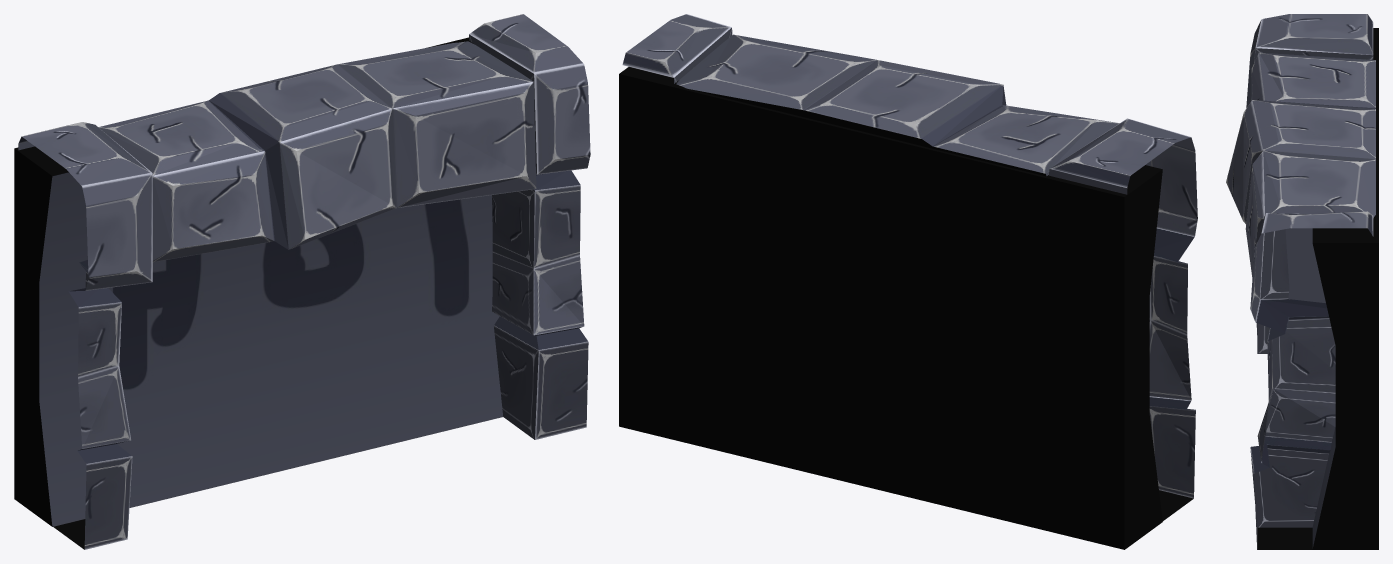
Rendered from Wall.FBX.
The picture shows the model from 3 angles, left to right: view 1: azimuth 30°, elevation 25°; view 2: azimuth 150°, elevation 25°; view 3: azimuth 270°, elevation 25°; orthographic projection. The views are drawn at different scales.
Visible parts, largest first — view 1: Object003; view 2: Object003; view 3: Object003.
Boxes of the visible parts, bbox=[...] form: Object003: bbox=[14, 14, 590, 549]; Object003: bbox=[619, 14, 1197, 549]; Object003: bbox=[1226, 14, 1378, 549].
Bounding box in the file's own units: 453 × 316 × 136.
